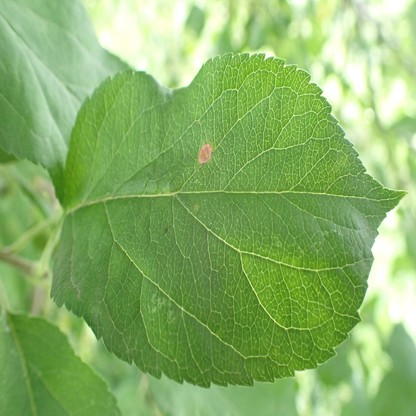frogeye_leaf_spot: (198, 142, 213, 165)
powdery_mildew: (342, 201, 374, 273)
